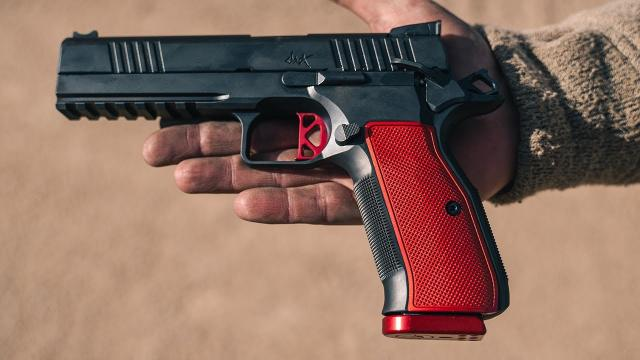handgun: (48, 15, 516, 345)
